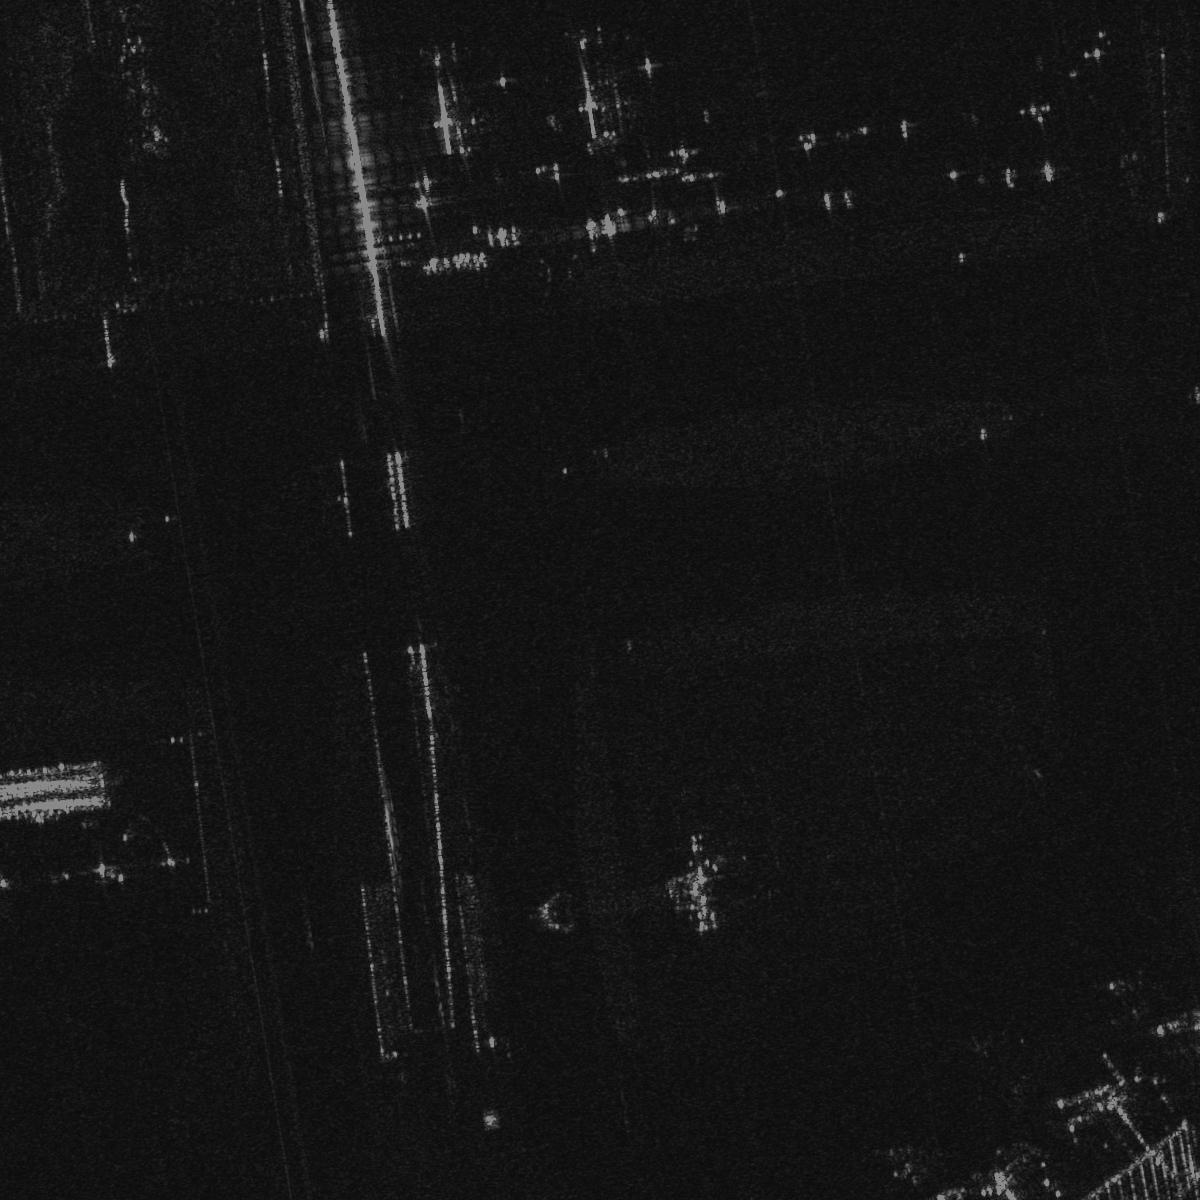A220: (1108, 978, 1162, 1022)
